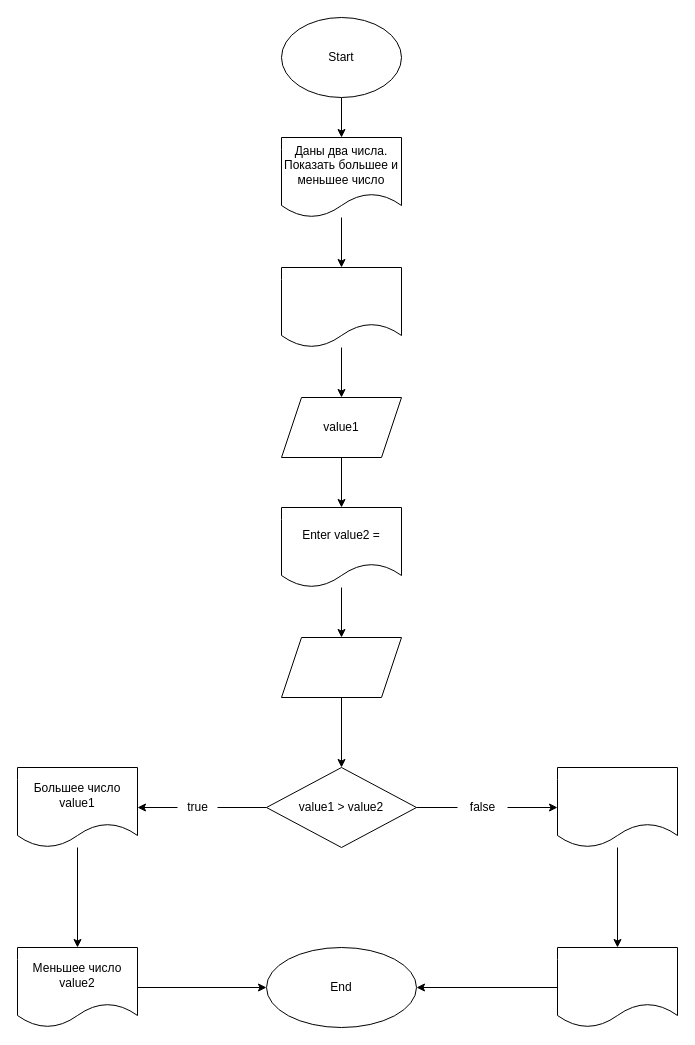
This 695x1045 diagram has some shape labels left out. Here are the shapes that lost their labels. From the top down, the centre of each, then its label:
At point (341, 307): "Enter value1 =".
At point (341, 667): "value2".
At point (617, 807): "Большее число value2".
At point (617, 987): "Меньшее число value1".
